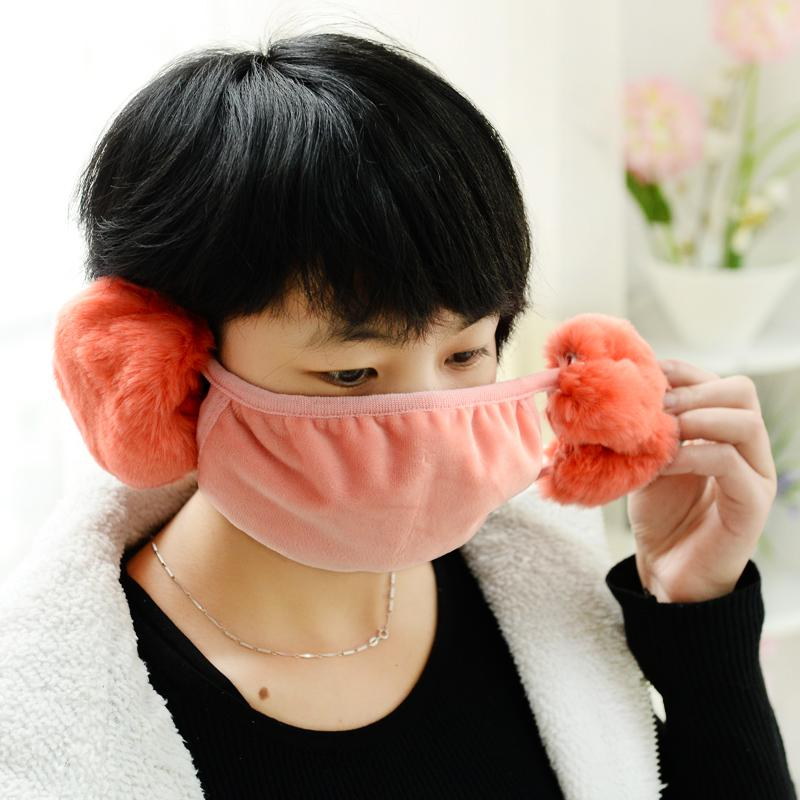OK: (232, 293, 511, 572)
